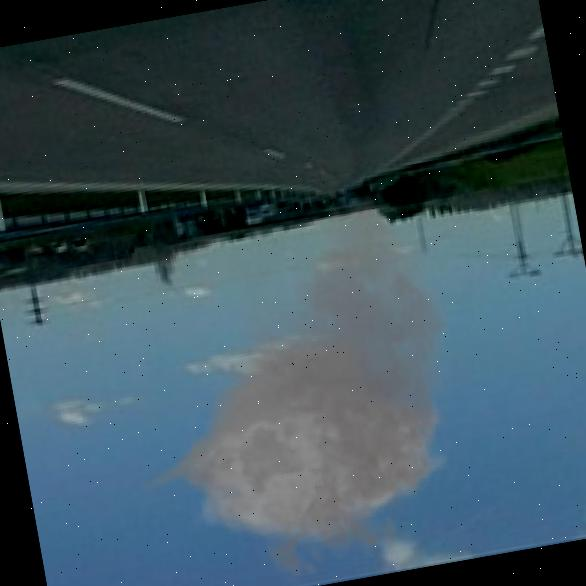smoke: (167, 266, 498, 532)
